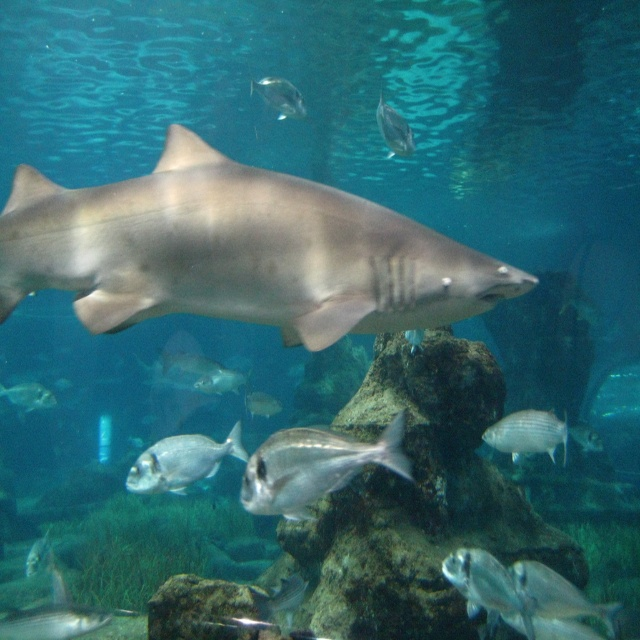Shark: (3, 122, 542, 351)
